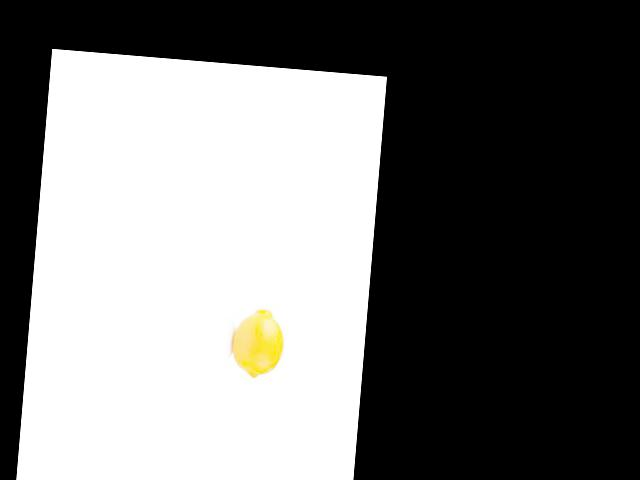lemon: (231, 301, 289, 383)
